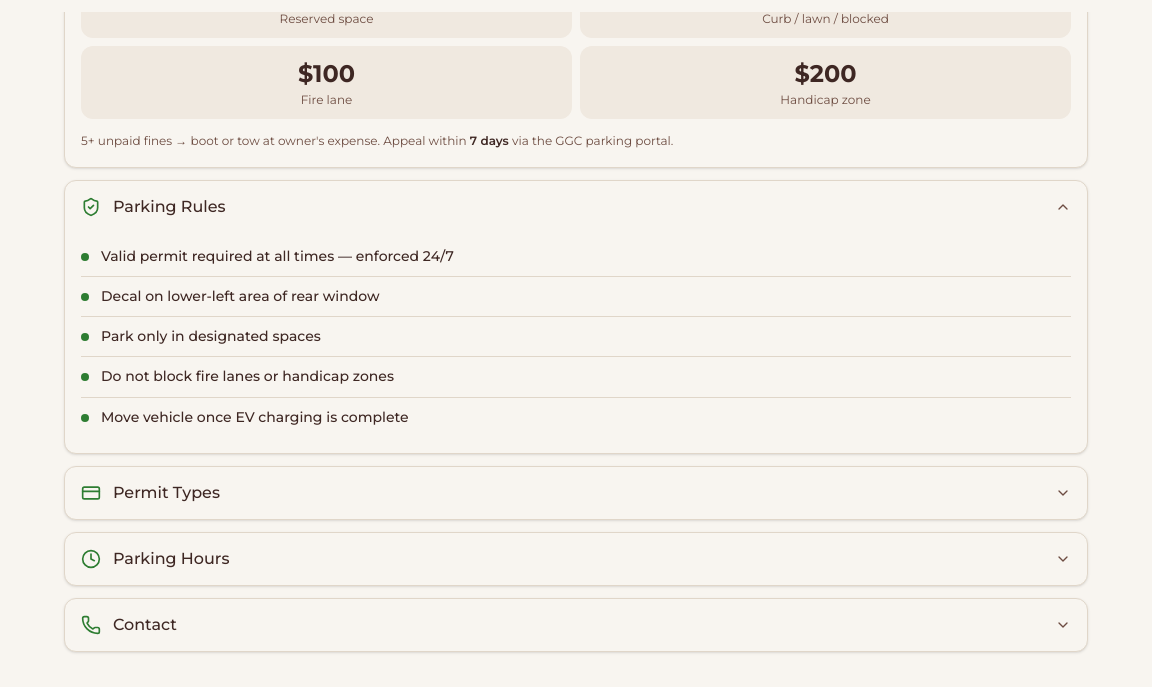
Test: InfoPage › expands section when clicked
(page scrolled)
What coordinates should you click on to do the following:
click the button "Parking Hours"
I would click on:
 (171, 558)
Its box is top-left (65, 533), bottom-right (1087, 585).
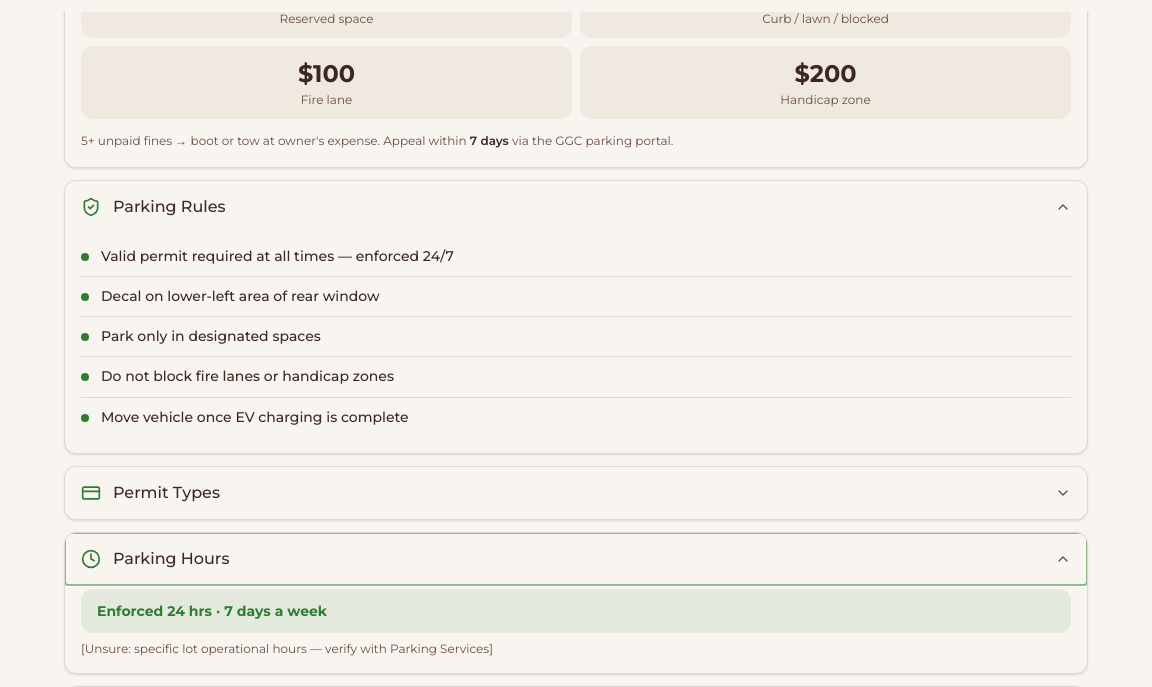
Check: the text "Enforced 24 hrs · 7 days a week" is shown, box top-left (97, 602), bottom-right (327, 620)
